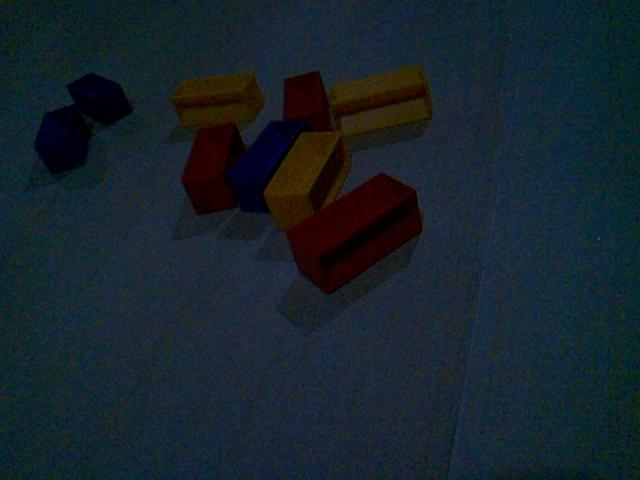blue: (227, 116, 308, 214), (33, 102, 94, 177), (66, 70, 134, 127)
red: (285, 171, 424, 295), (180, 121, 247, 216), (282, 68, 332, 131)
yellow: (263, 129, 352, 232), (328, 63, 434, 138), (169, 70, 266, 130)
